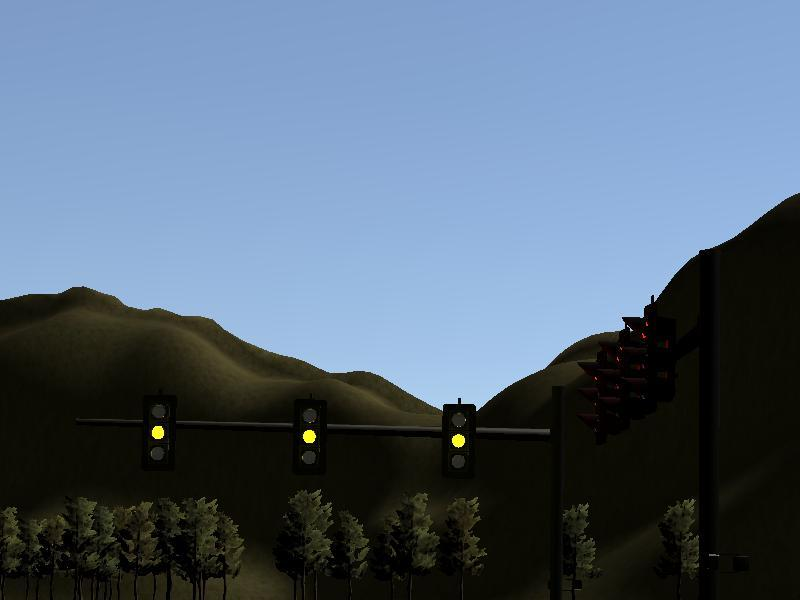Yellow: (293, 398, 327, 477), (142, 392, 176, 470), (442, 403, 476, 478)
